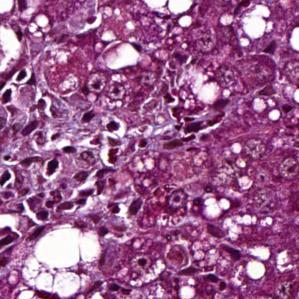ballooning: (19, 225, 107, 299), (228, 5, 279, 47)
